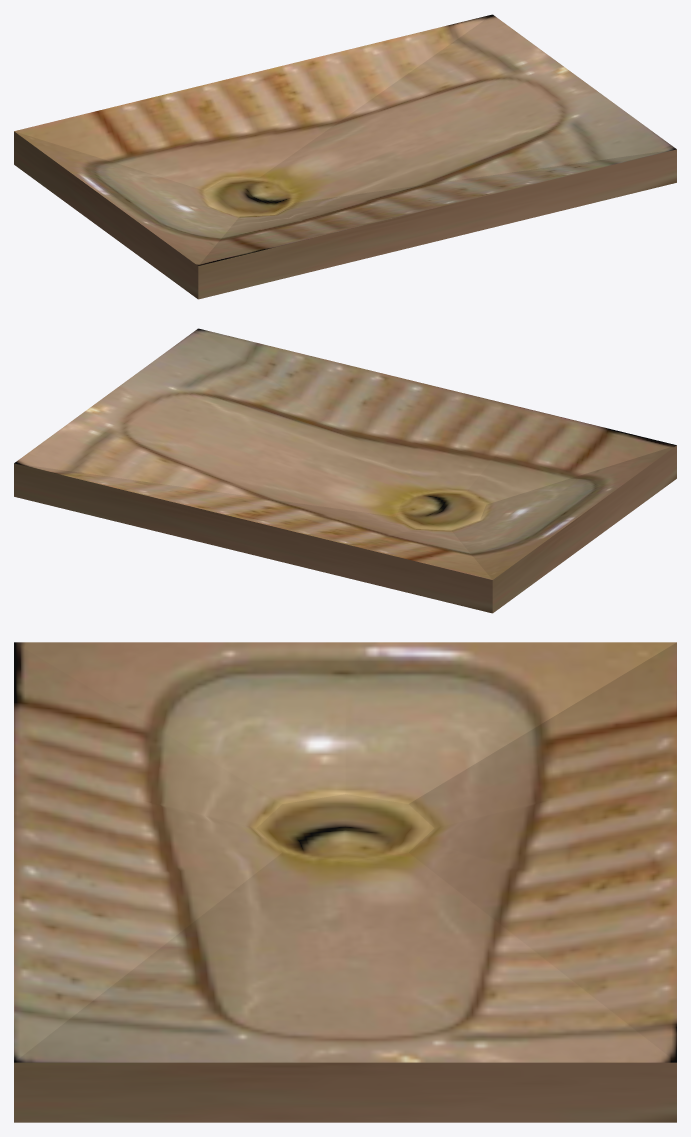
Rendered from Alaturka.fbx.
The picture shows the model from 3 angles, top to bottom: view 1: azimuth 30°, elevation 25°; view 2: azimuth 150°, elevation 25°; view 3: azimuth 270°, elevation 25°; orthographic projection. The views are drawn at different scales.
Visible parts, largest first — view 1: Cube; view 2: Cube; view 3: Cube.
Part boxes in pixels (box(x1,y1,x2,y2)): Cube: box(14, 14, 676, 299); Cube: box(14, 328, 676, 613); Cube: box(14, 642, 676, 1122).
Size of the model in its own units: 150 by 10 by 100.
1 material, 1 textured.
